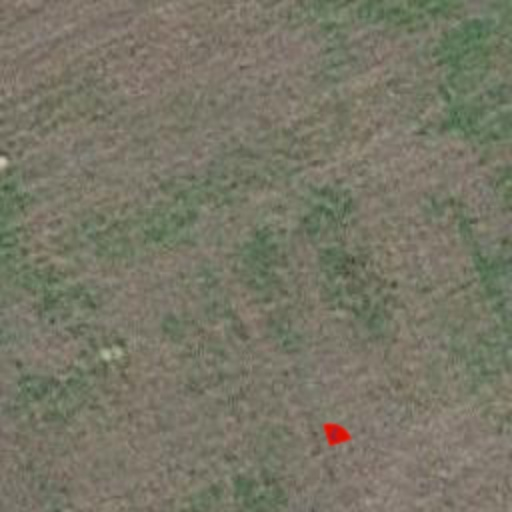quarter_circle: (314, 412, 358, 456)
